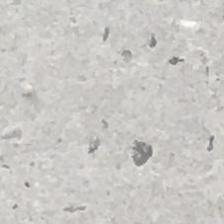Non_Crack: (4, 6, 191, 209)
